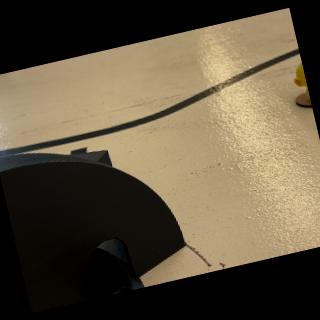teletubby: (293, 62, 310, 101)
